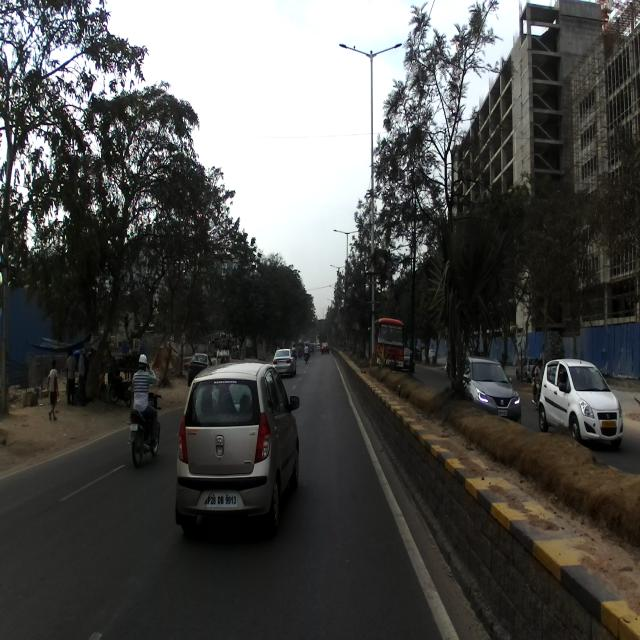car ahead at: (178, 362, 302, 530)
